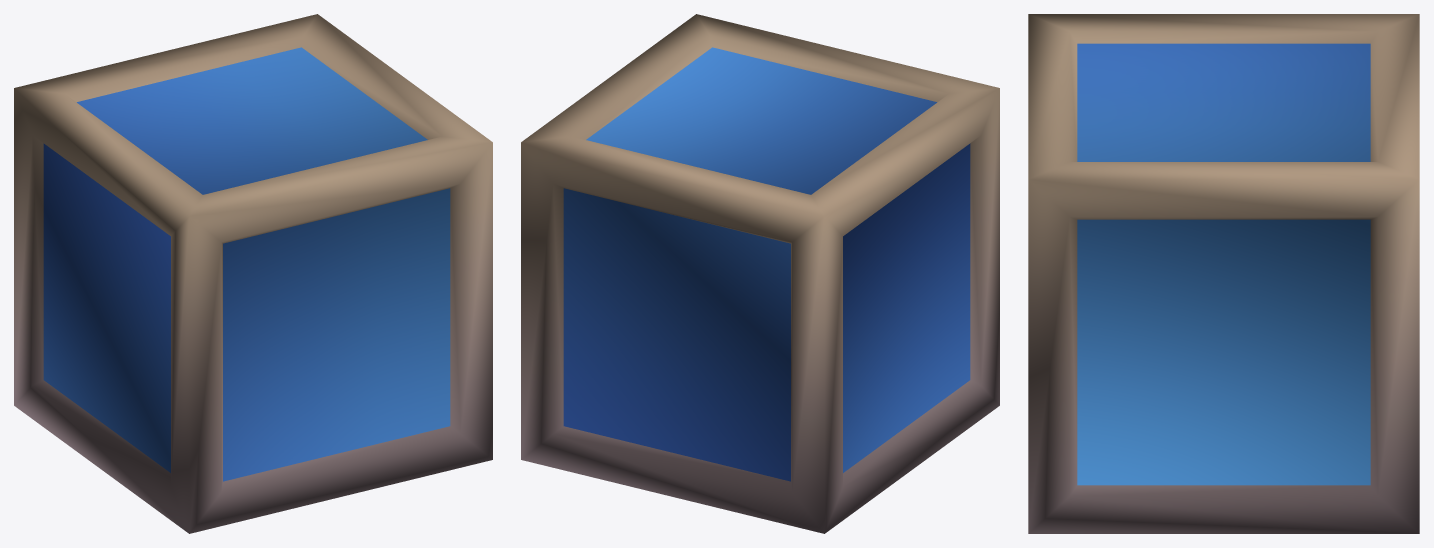
File: Block_Blue.fbx
3 views of the same model, side by side, from view 1: azimuth 30°, elevation 25°; view 2: azimuth 150°, elevation 25°; view 3: azimuth 270°, elevation 25° (orthographic). The views are drawn at different scales.
Parts seen in each view (by area): view 1: Block_Blue; view 2: Block_Blue; view 3: Block_Blue.
Boxes of the visible parts, x1,y1,x2,y2 form: Block_Blue: (14, 14, 492, 533); Block_Blue: (521, 14, 999, 533); Block_Blue: (1028, 14, 1419, 533).
Bounding box in the file's own units: 200 × 200 × 200.
